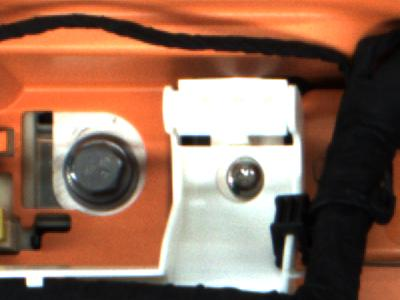nut_b: (59, 132, 145, 209)
